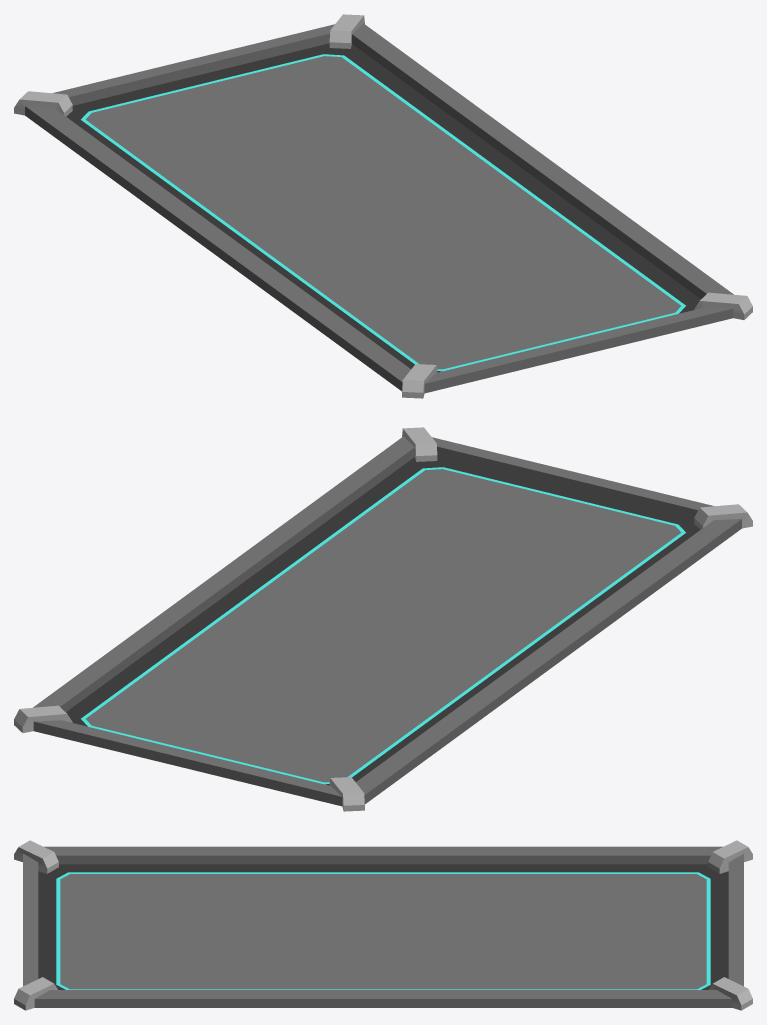
Rendered from Lift.fbx.
3 views of the same model, one above another, from view 1: azimuth 30°, elevation 25°; view 2: azimuth 150°, elevation 25°; view 3: azimuth 270°, elevation 25° (orthographic). The views are drawn at different scales.
Parts seen in each view (by area): view 1: pPlane1; view 2: pPlane1; view 3: pPlane1.
Boxes of the visible parts, <box> form: pPlane1: <box>14,14,752,398</box>; pPlane1: <box>14,427,752,811</box>; pPlane1: <box>14,840,752,1010</box>.
Size of the model in its own units: 2.07 by 0.0852 by 4.1.
